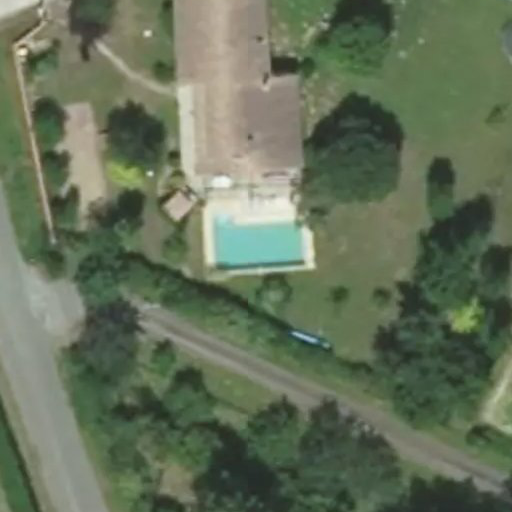pool: (203, 210, 312, 274)
